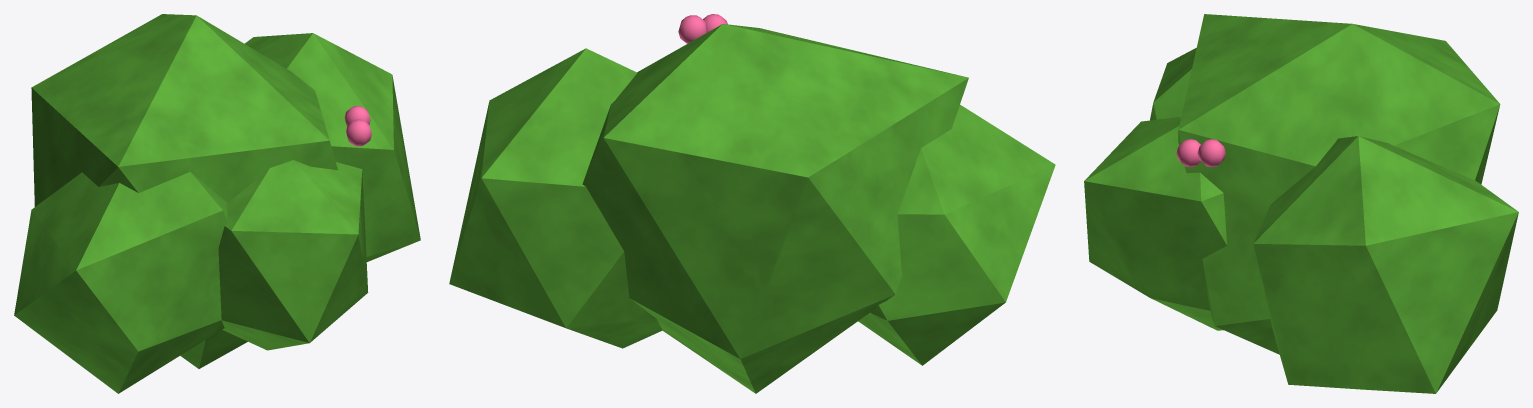
Rendered from env_bush.glb.
3 views of the same model, side by side, from view 1: azimuth 30°, elevation 25°; view 2: azimuth 150°, elevation 25°; view 3: azimuth 270°, elevation 25° (orthographic). The views are drawn at different scales.
Visible parts, largest first — view 1: env_bush; view 2: env_bush; view 3: env_bush.
Boxes of the visible parts, bbox=[...] form: env_bush: bbox=[14, 14, 420, 393]; env_bush: bbox=[449, 14, 1055, 393]; env_bush: bbox=[1084, 14, 1518, 393].
Size of the model in its own units: 2.16 by 1.65 by 1.83.
2 materials, 1 textured.
